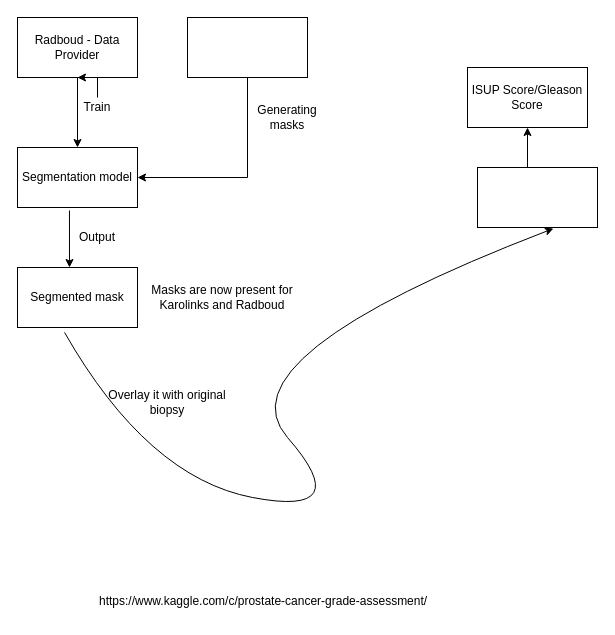
The diagram is 615 pixels wide and 635 high, and some of its shapes have lost their labels. The centre of each missing label's shape, as x and y in pixels:
"Classifier" belongs at [537,197].
"Karolinska - Data Provider" belongs at [247,47].
